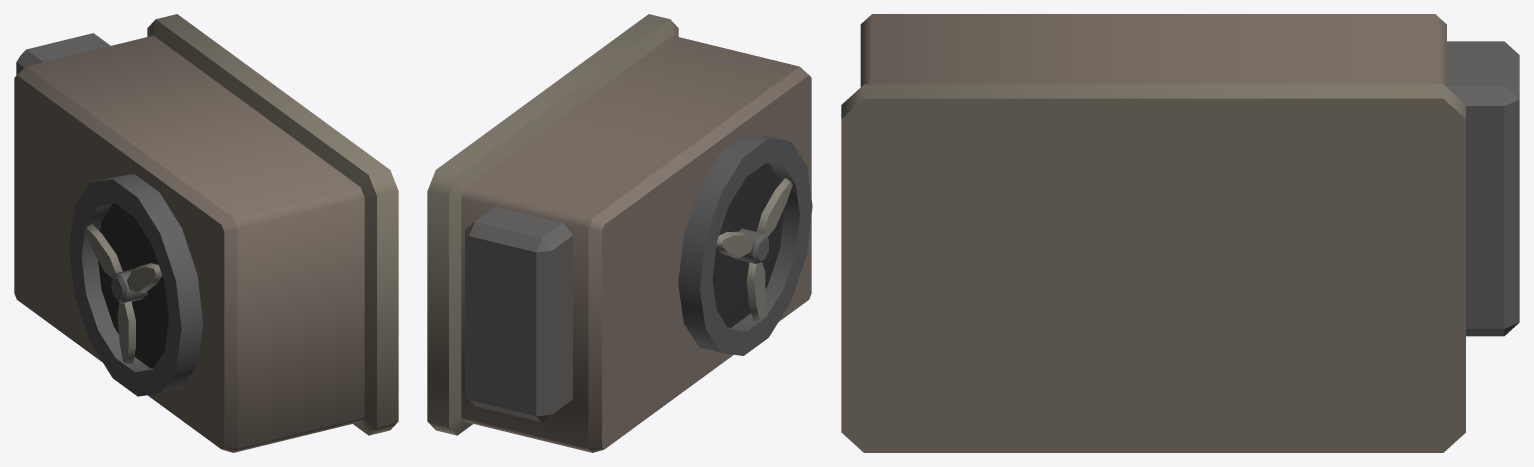
File: VENTS_1_A.fbx
3 renders of one model, left to right at view 1: azimuth 30°, elevation 25°; view 2: azimuth 150°, elevation 25°; view 3: azimuth 270°, elevation 25°, orthographic. The views are drawn at different scales.
Parts seen in each view (by area): view 1: VENTS_1_A, VENTS_1p_A; view 2: VENTS_1_A, VENTS_1p_A; view 3: VENTS_1_A.
Part boxes in pixels (x1,y1,x2,y2): VENTS_1_A: [14, 14, 398, 452]; VENTS_1p_A: [85, 224, 162, 364]; VENTS_1_A: [427, 14, 812, 452]; VENTS_1p_A: [716, 178, 792, 320]; VENTS_1_A: [841, 14, 1519, 452].
Size of the model in its own units: 52.35 by 67.12 by 116.
